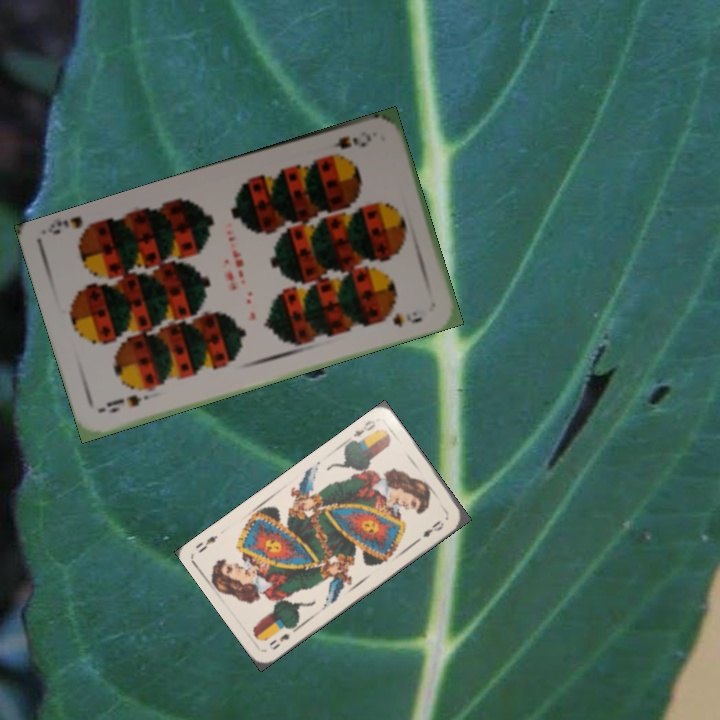EO: (265, 623, 299, 653), (349, 416, 378, 439)
S9: (103, 391, 156, 416), (328, 126, 374, 152)
